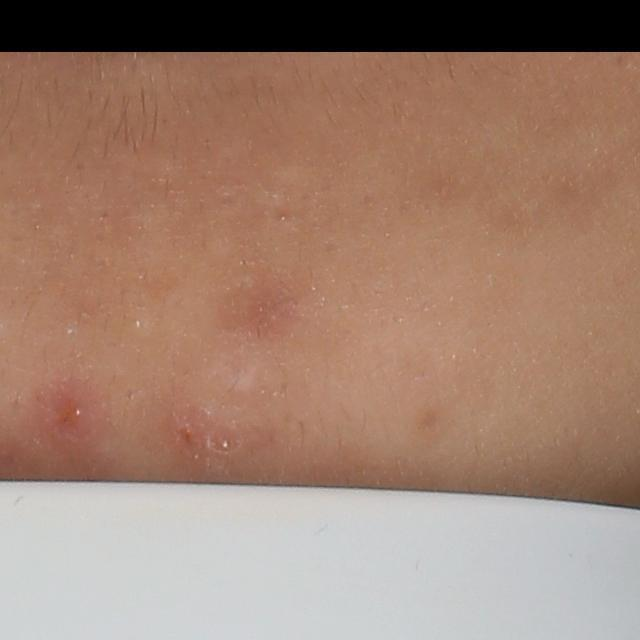hypertrophic_scar: (219, 368, 267, 401)
papule: (166, 406, 208, 457), (59, 389, 99, 435)
